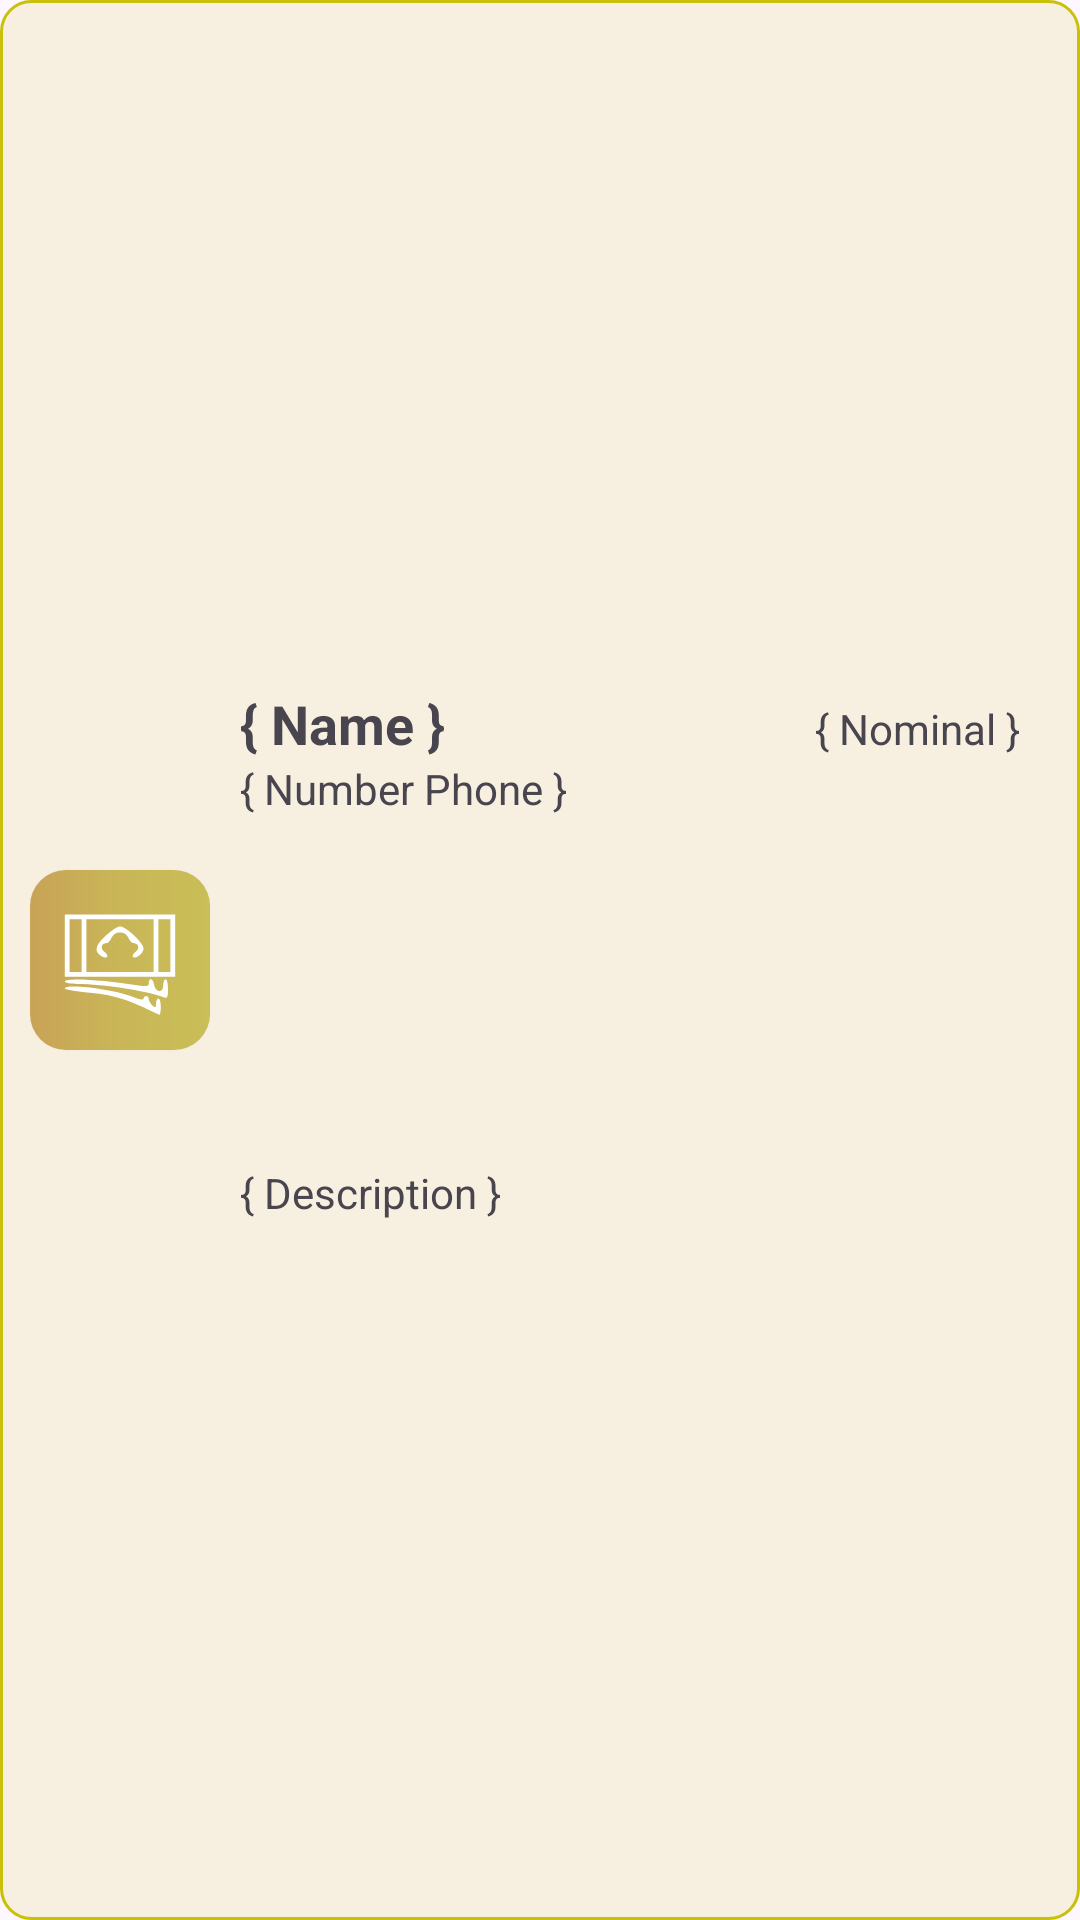

Named icons in this screenshot (1080px x 1920px) and their bounding boxes, Rect(x1, y1, x2, y2):
category cash: Rect(30, 870, 210, 1050)
